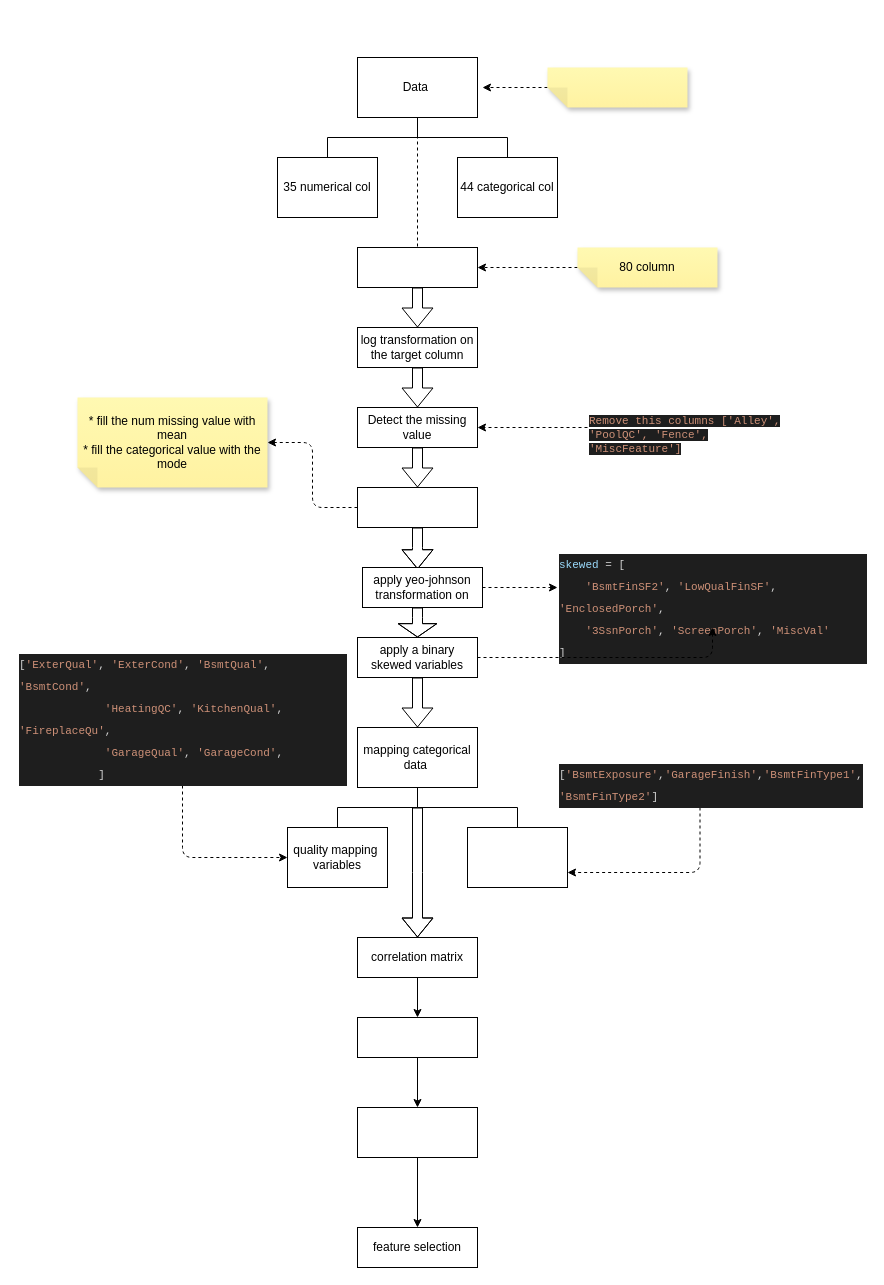
This 884x1285 diagram has some shape labels left out. Here are the shapes that lost their labels. From the top down, the centre of each, then its label:
At [618,88]: "81 columns".
At [417,267]: "Remove id col".
At [417,507]: "handle the missing value".
At [517,857]: "other mapping variables".
At [417,1037]: "feature scaling".
At [417,1132]: "split the data".
